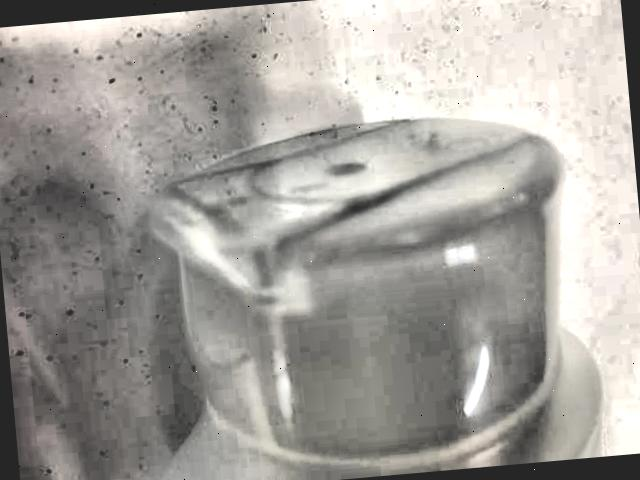Plastic: (86, 75, 640, 480)
